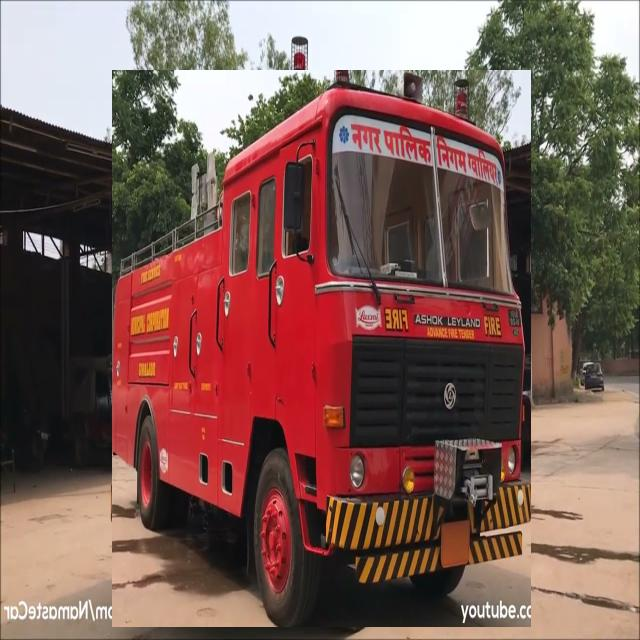emergency: (112, 71, 530, 627)
